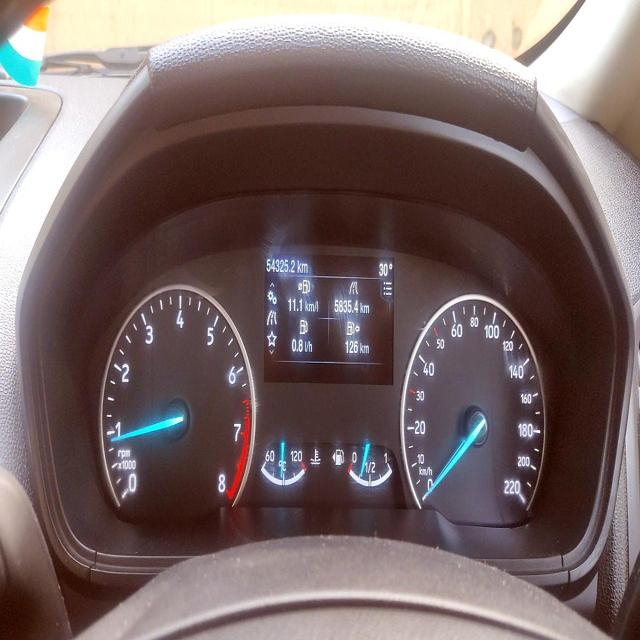odometer: (263, 253, 297, 278)
